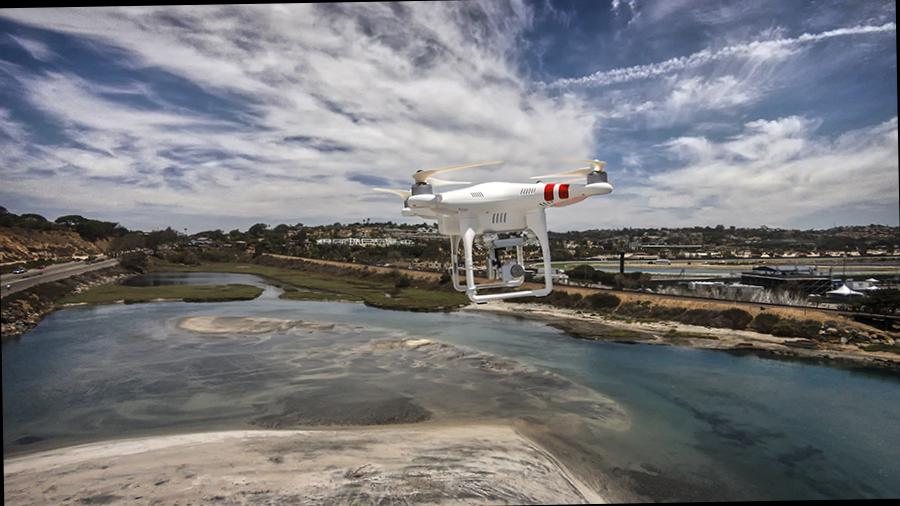drone: (372, 156, 616, 303)
